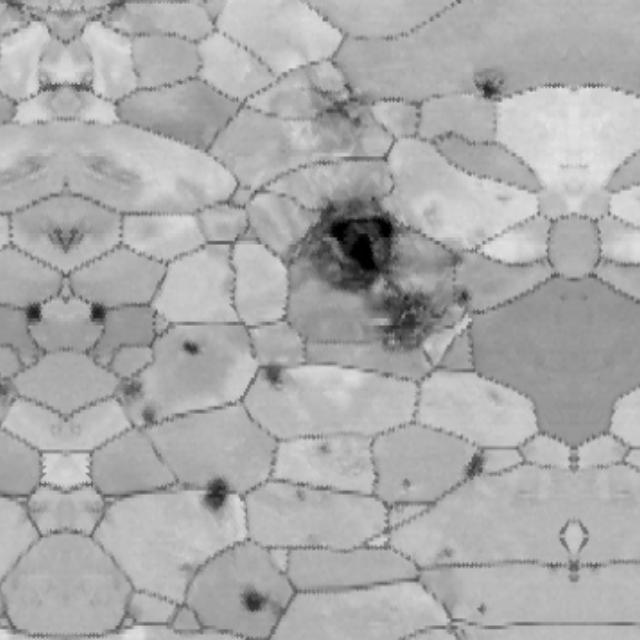good_void: (297, 197, 403, 304), (372, 278, 484, 368), (292, 73, 389, 148), (472, 72, 509, 112), (235, 587, 278, 620), (203, 475, 229, 514), (461, 440, 485, 482), (257, 362, 285, 393), (170, 560, 197, 581), (85, 501, 109, 523), (21, 501, 45, 523), (174, 340, 201, 357), (120, 378, 141, 399), (313, 437, 333, 459), (65, 230, 83, 253), (47, 230, 65, 253), (291, 490, 310, 509), (139, 406, 156, 427), (392, 477, 412, 492), (437, 547, 456, 561), (90, 311, 105, 328), (25, 311, 40, 328), (0, 378, 10, 399), (468, 607, 488, 617)
